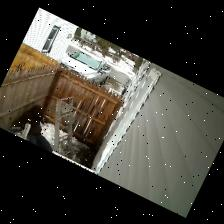person: (13, 105, 52, 152)
